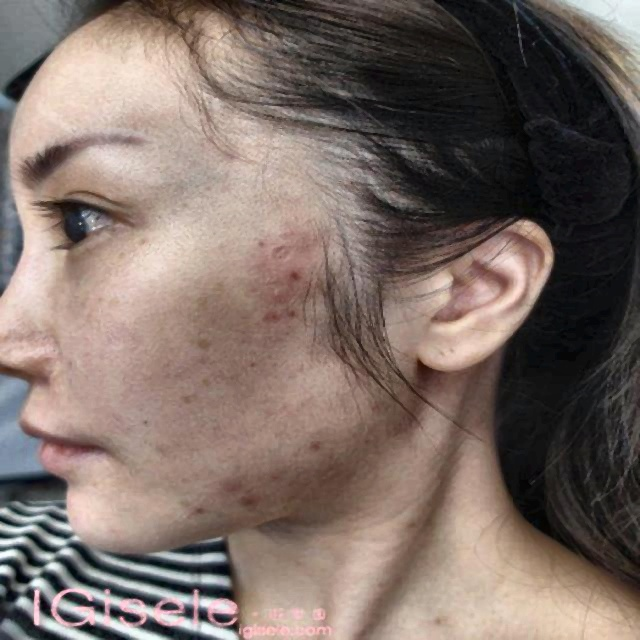comedone: (263, 228, 290, 252), (226, 469, 253, 489), (270, 264, 304, 279)
